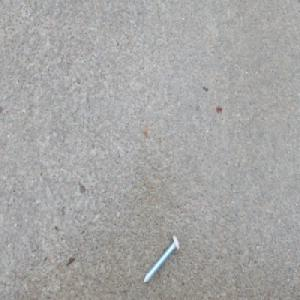Nail: (141, 233, 180, 286)
